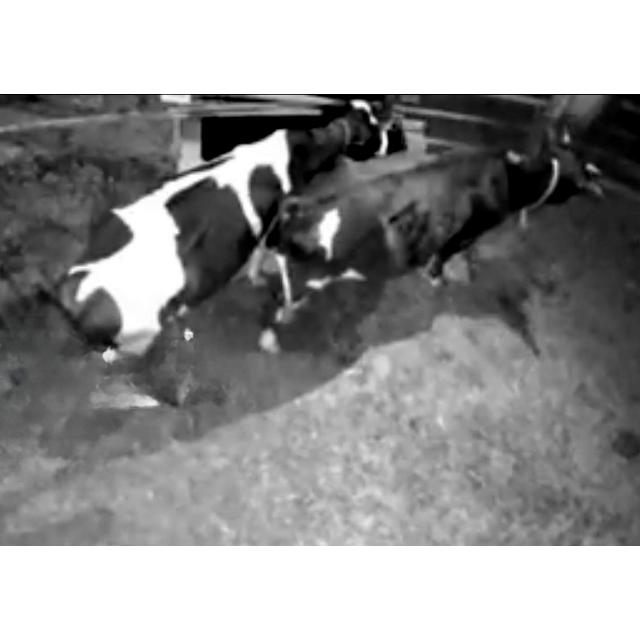drink: (282, 98, 403, 170)
